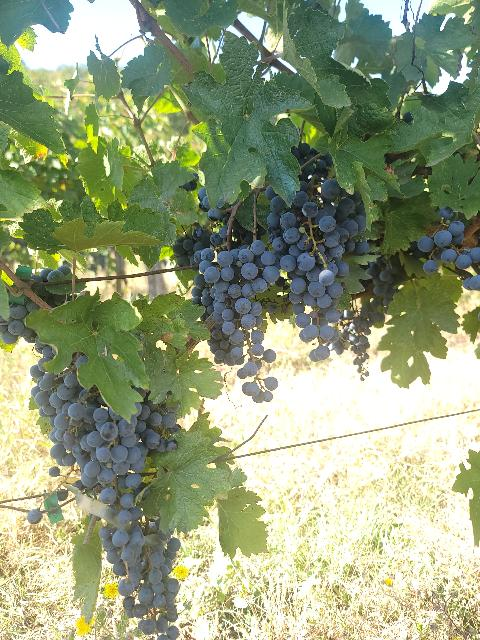grapes: (32, 355, 178, 596), (266, 188, 349, 360), (191, 248, 276, 380), (118, 531, 180, 640), (238, 240, 280, 294)
